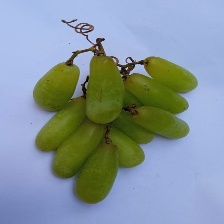grapes: (29, 27, 199, 178)
